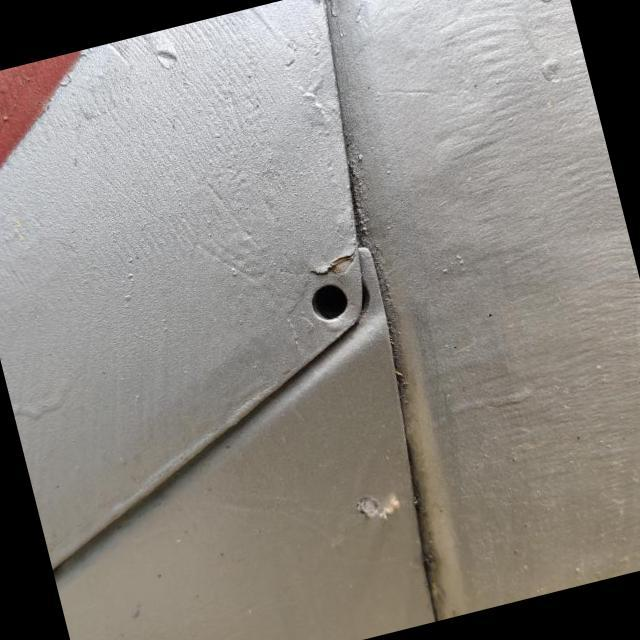Fastener Damage: (250, 230, 401, 374)
